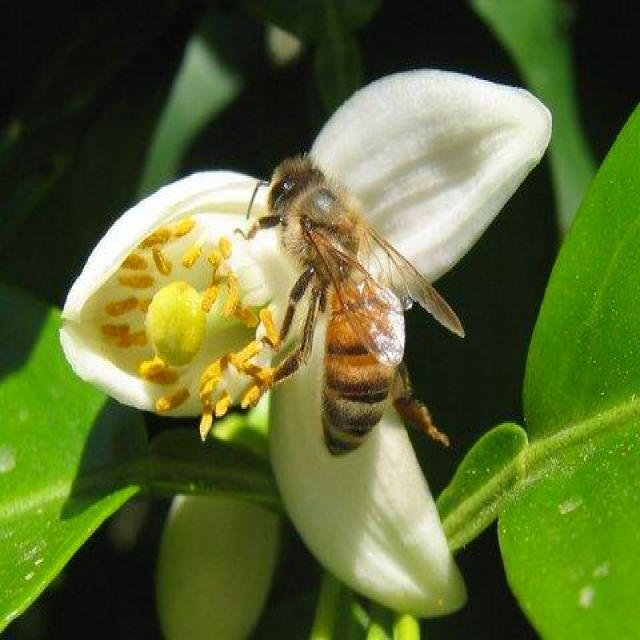Bunga: (58, 67, 554, 618)
